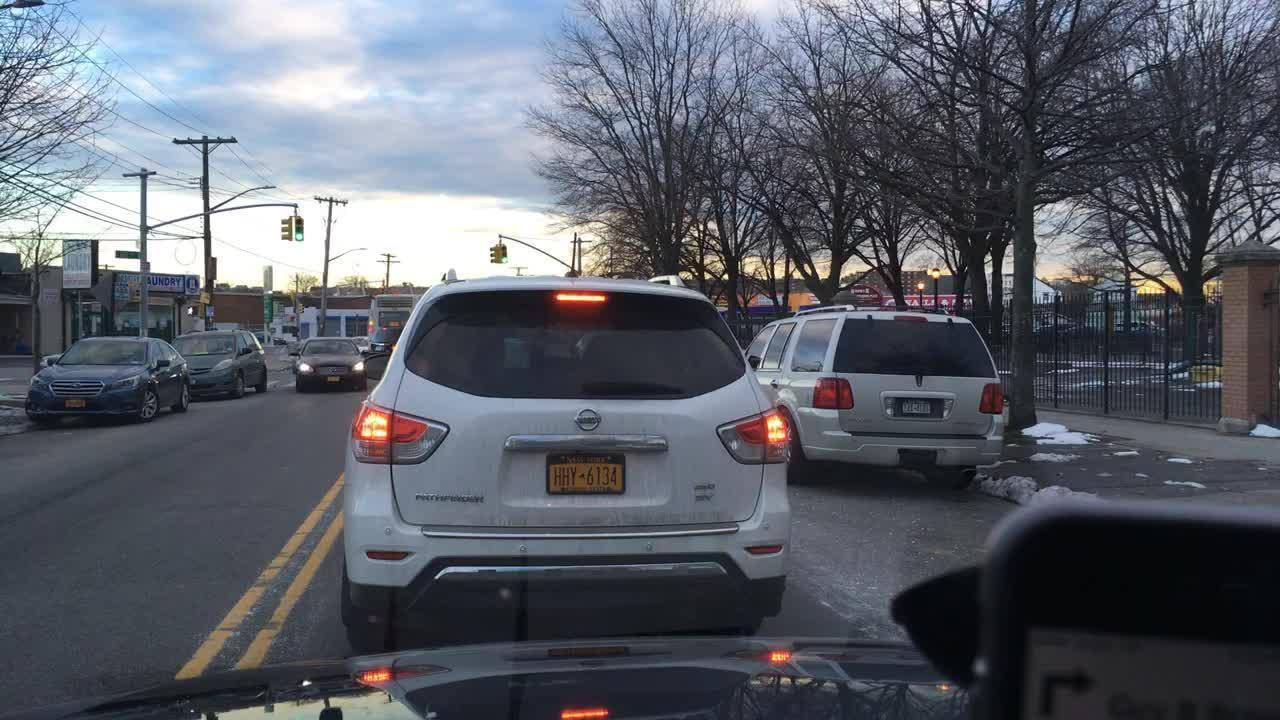Nissan: (554, 406, 622, 443)
lincoln: (913, 370, 928, 391)
